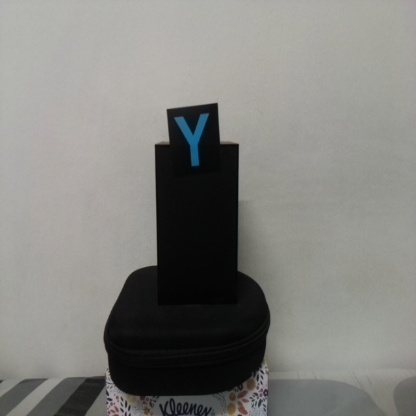id_14: (168, 108, 220, 173)
